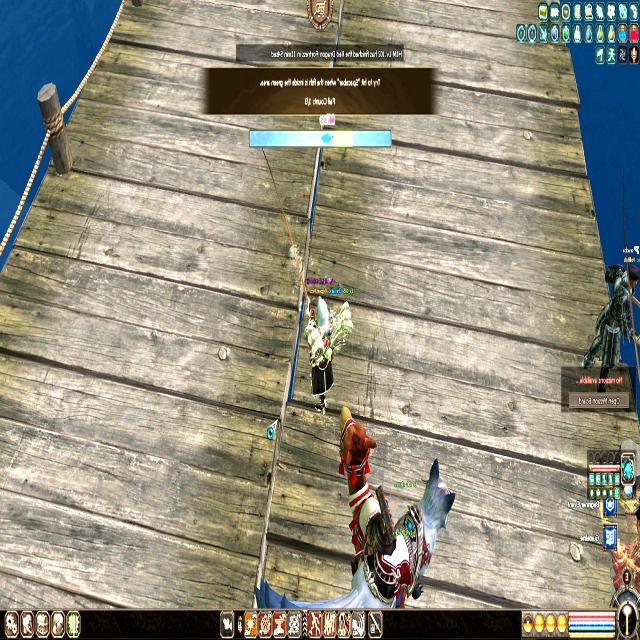fishes: (322, 132, 334, 146)
